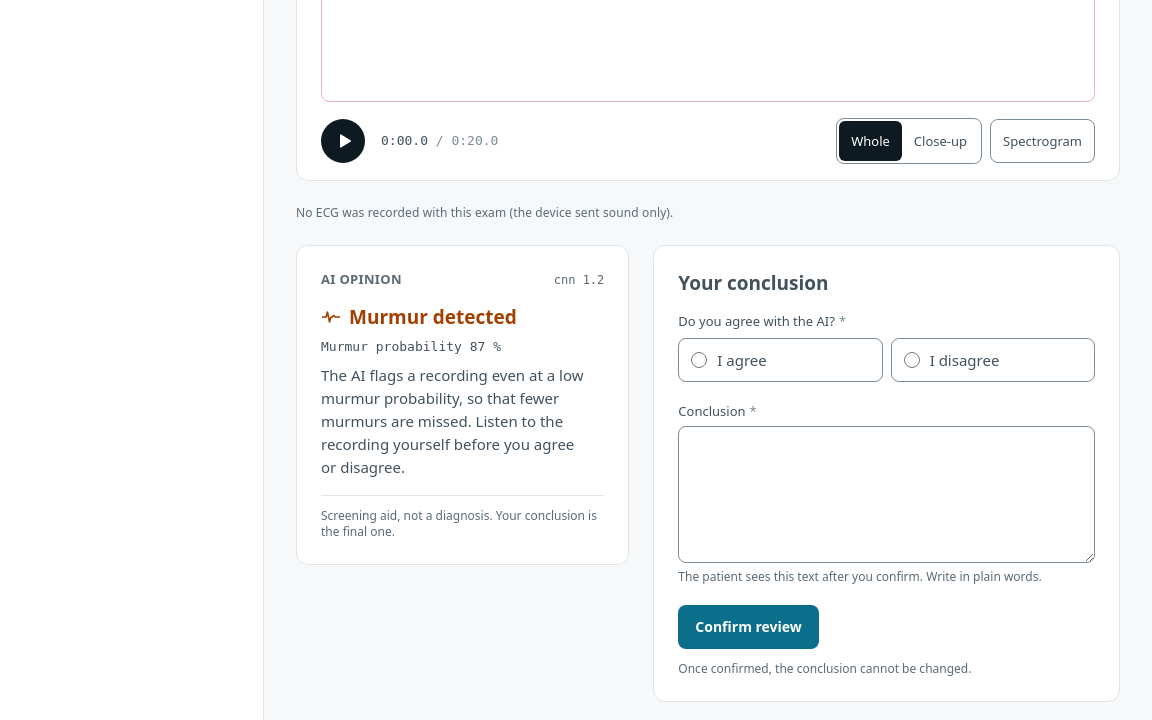
Test case: result and review › reviewed already in another tab (409): the saved conclusion is shown with an explanation
(page scrolled)
Click the radio button labelled "I disagree" at (912, 360), box [904,352,920,368]
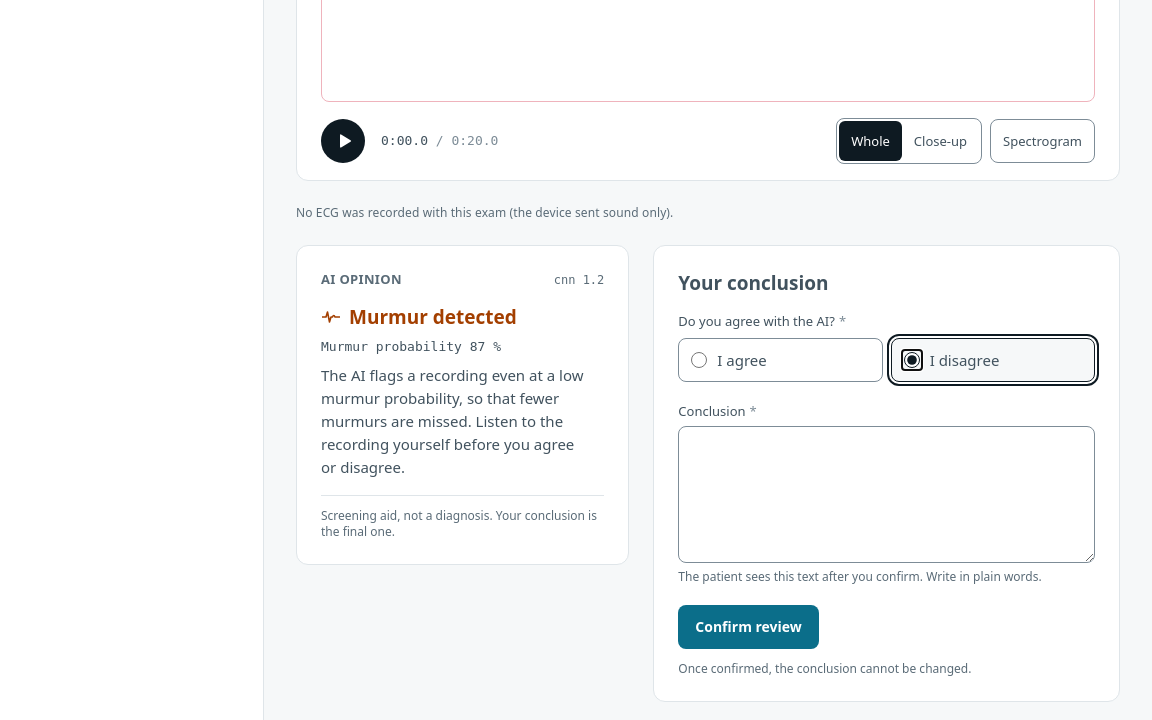
Type "My note" into the text box labelled "Conclusion" at (887, 494), box [678,426,1095,563]
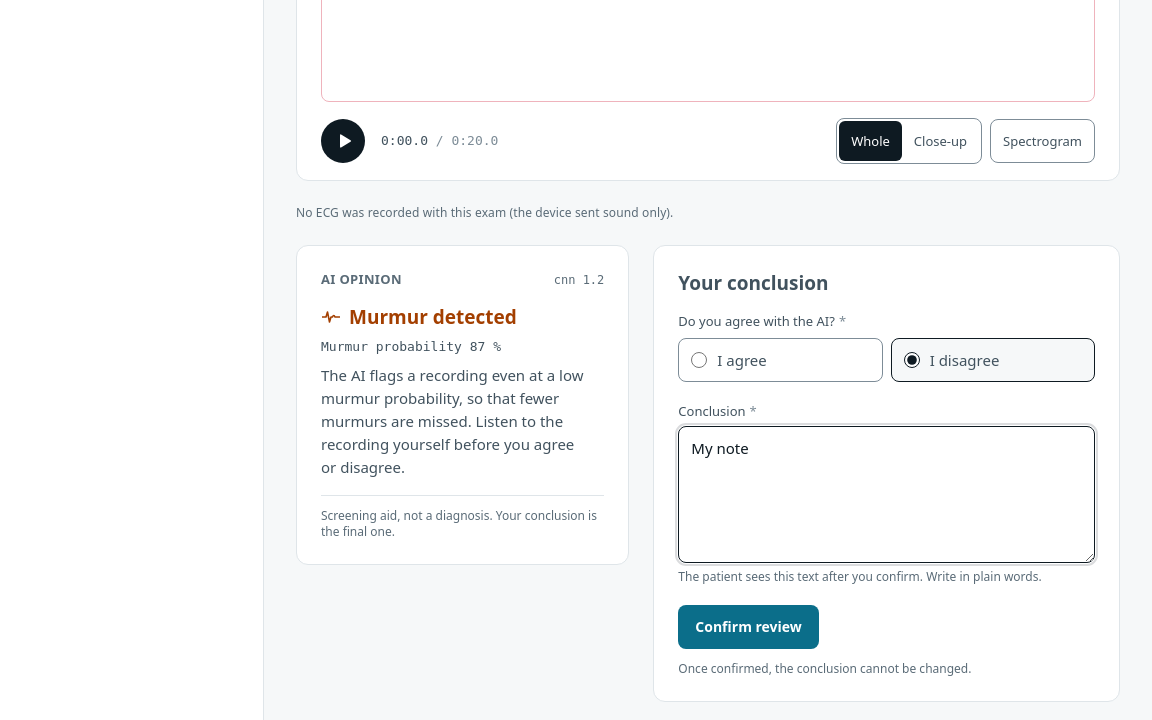
Click the button "Confirm review" at (749, 627), box [678,605,819,649]
(page scrolled)
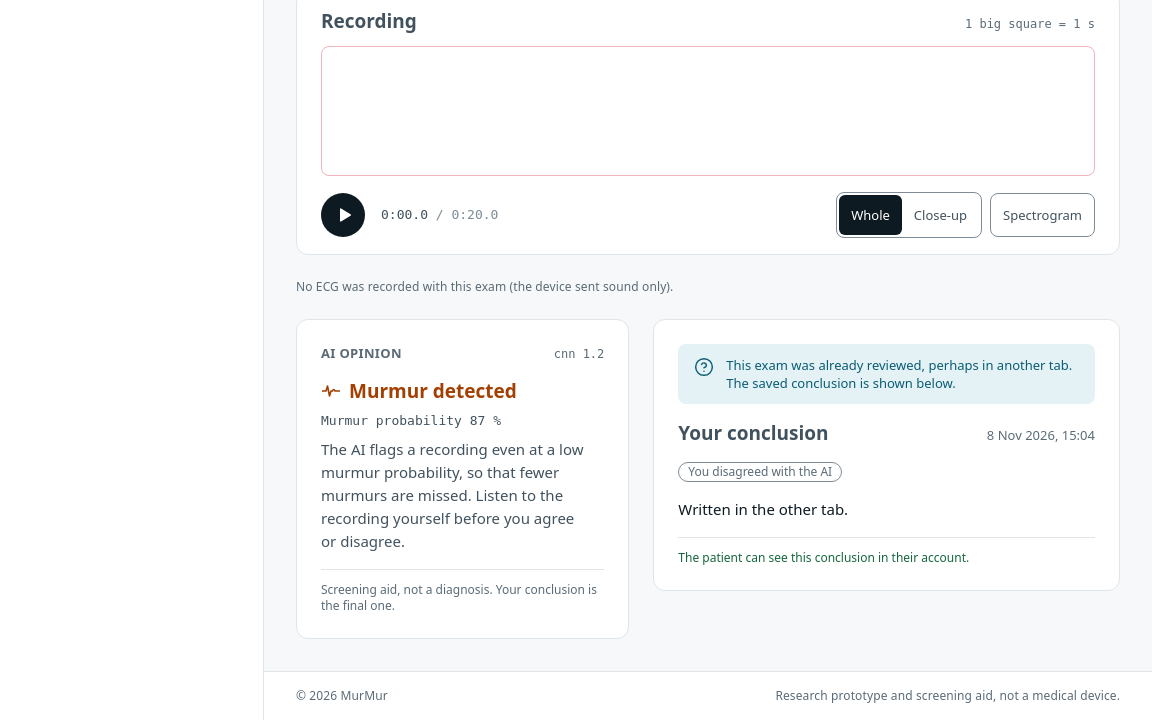
Expected: the text "already reviewed, perhaps in another tab" is shown, [726,356,1072,392]
Expected: the text "Written in the other tab." is shown, [678,499,848,519]
Expected: the text "You disagreed with the AI" is shown, [678,462,842,482]
